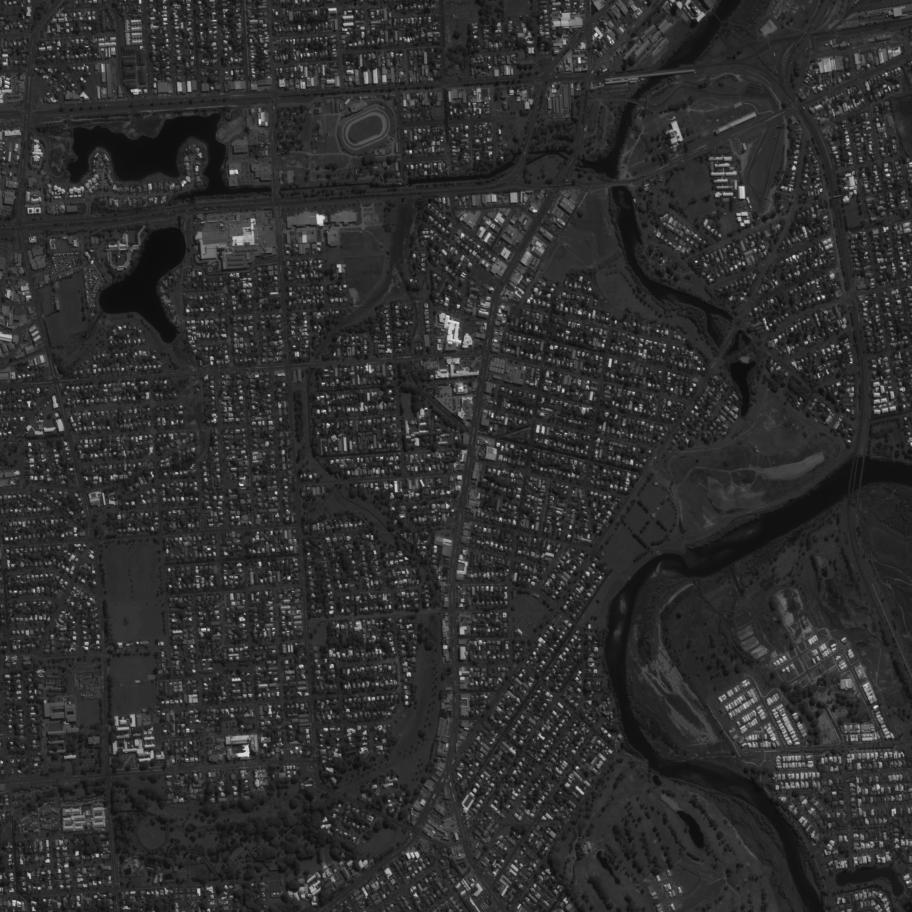storage-tank: (143, 88, 148, 94)
